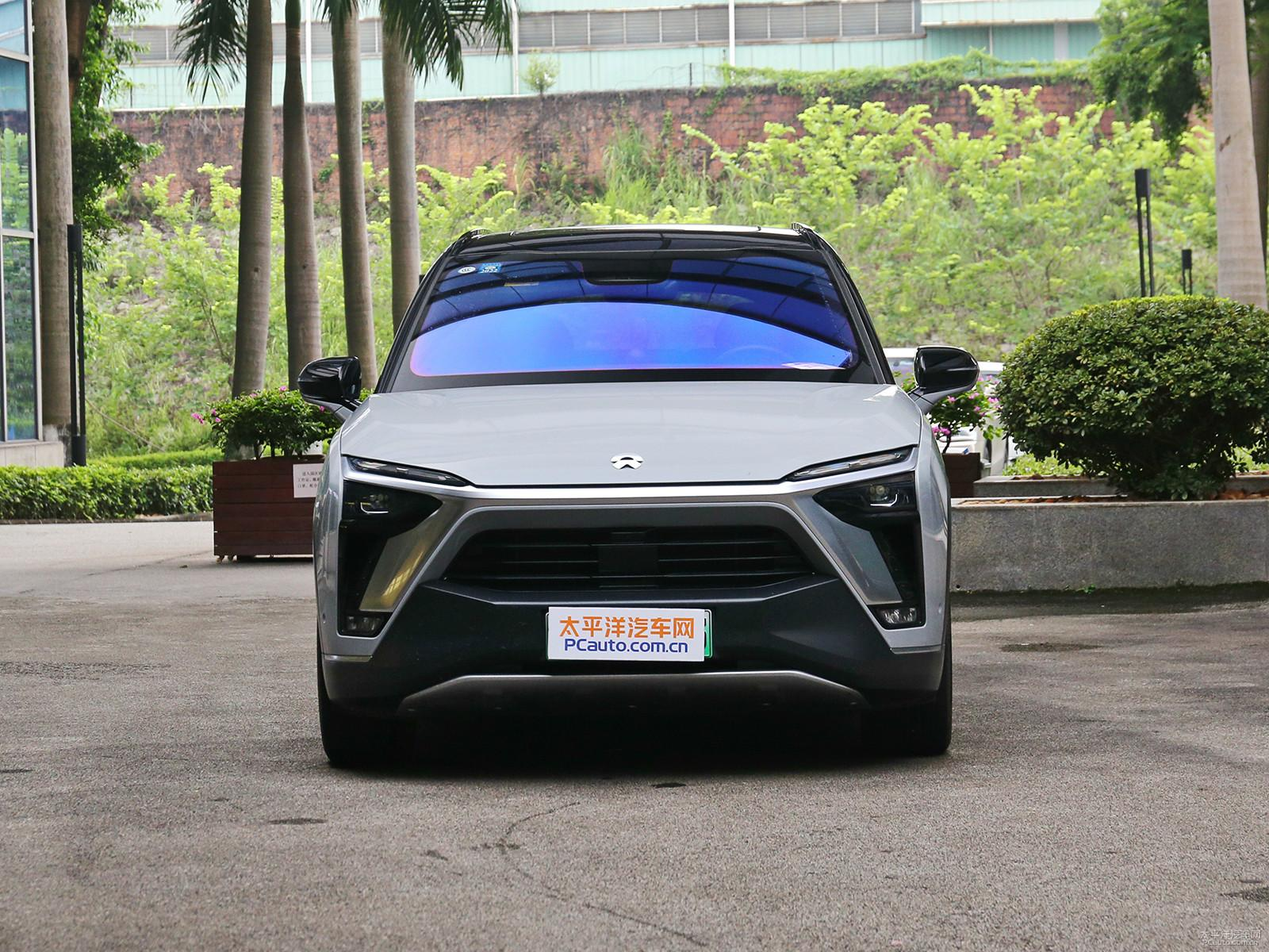NIO: (611, 451, 644, 471)
